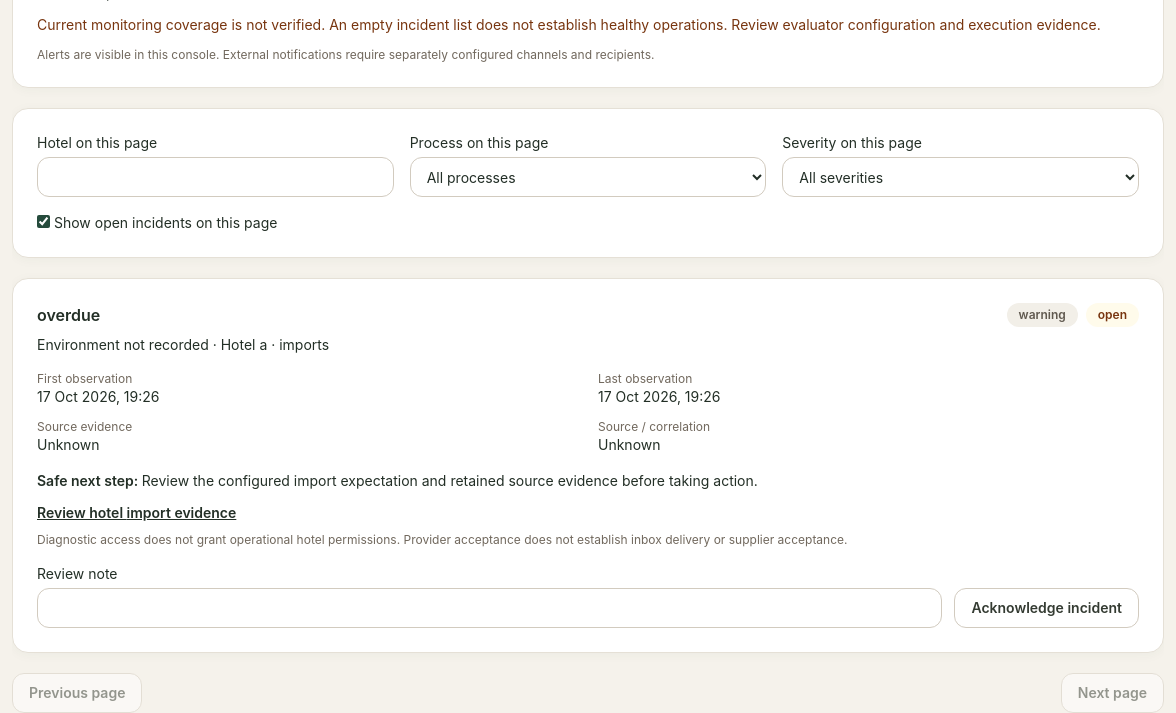
Test case: acknowledges an incident without claiming the underlying import is healed
(page scrolled)
In the field labelled "Review note": (490, 608) [37,588,942,628], type "Investigating source"
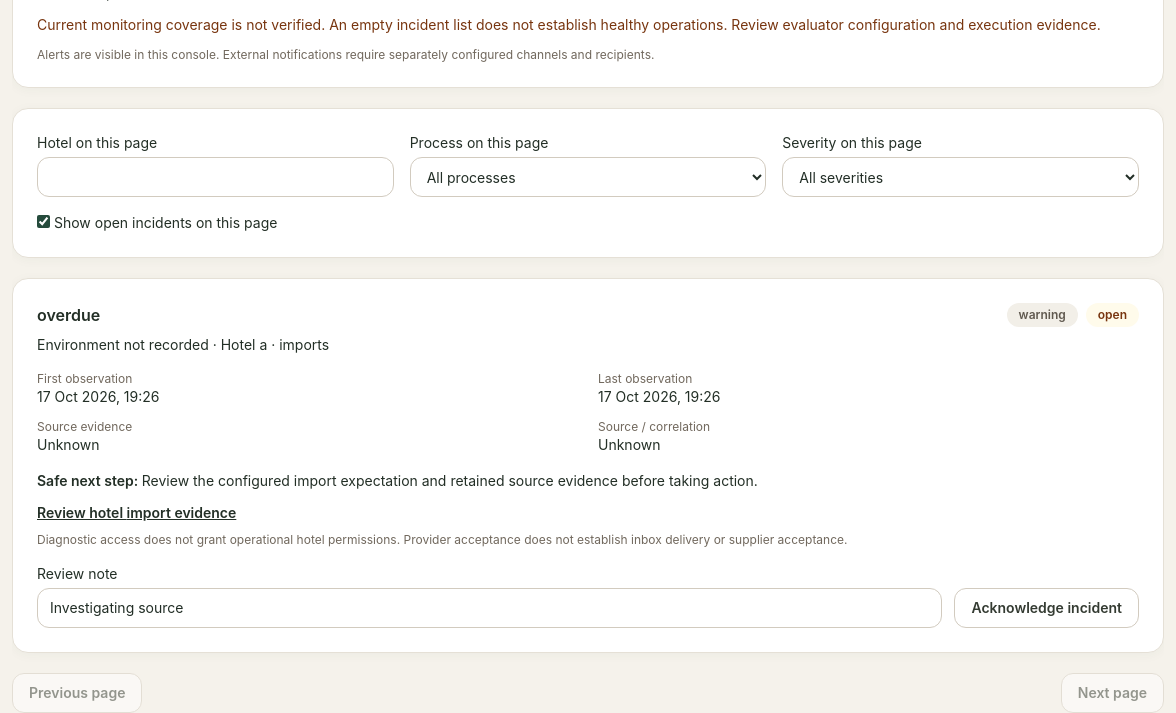
Click the button "Acknowledge incident": click(1047, 608) [954,588,1139,628]
(page scrolled)
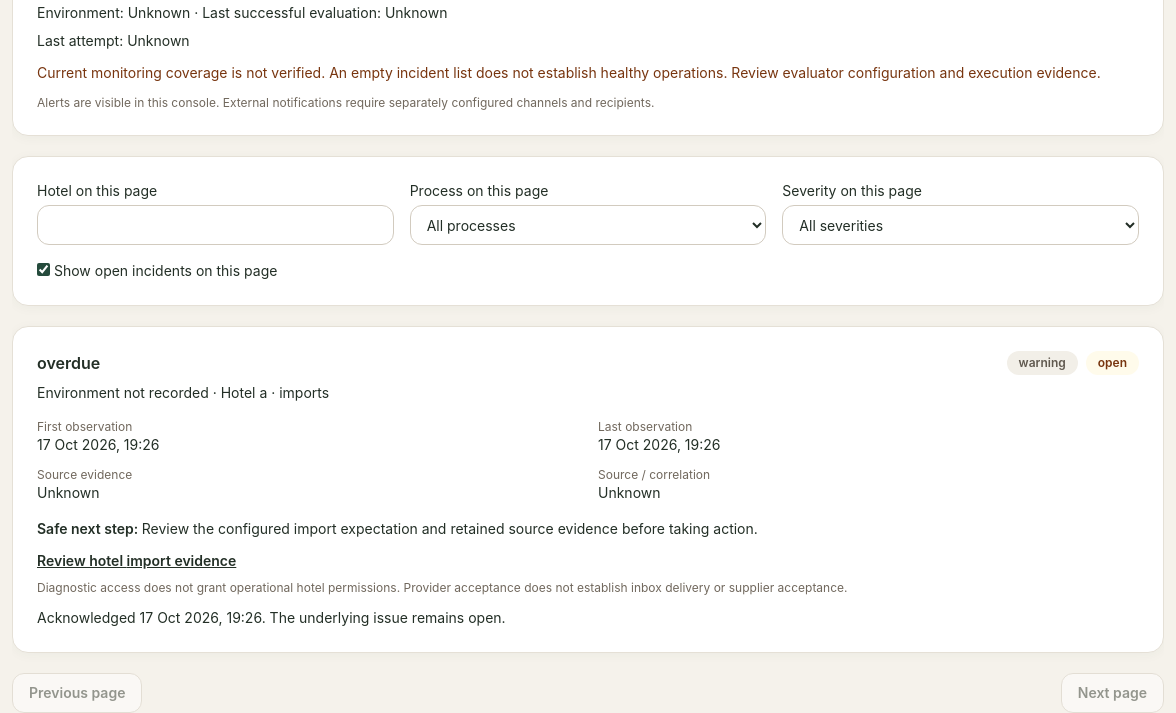
Expected: the text "open" is shown, [1086,351,1139,375]
Expected: the text "underlying issue remains open" is shown, [270,609,506,626]
